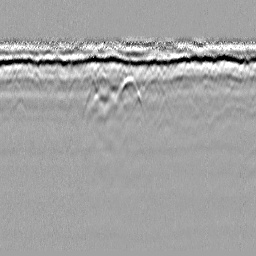cavity: (114, 75, 143, 111)
